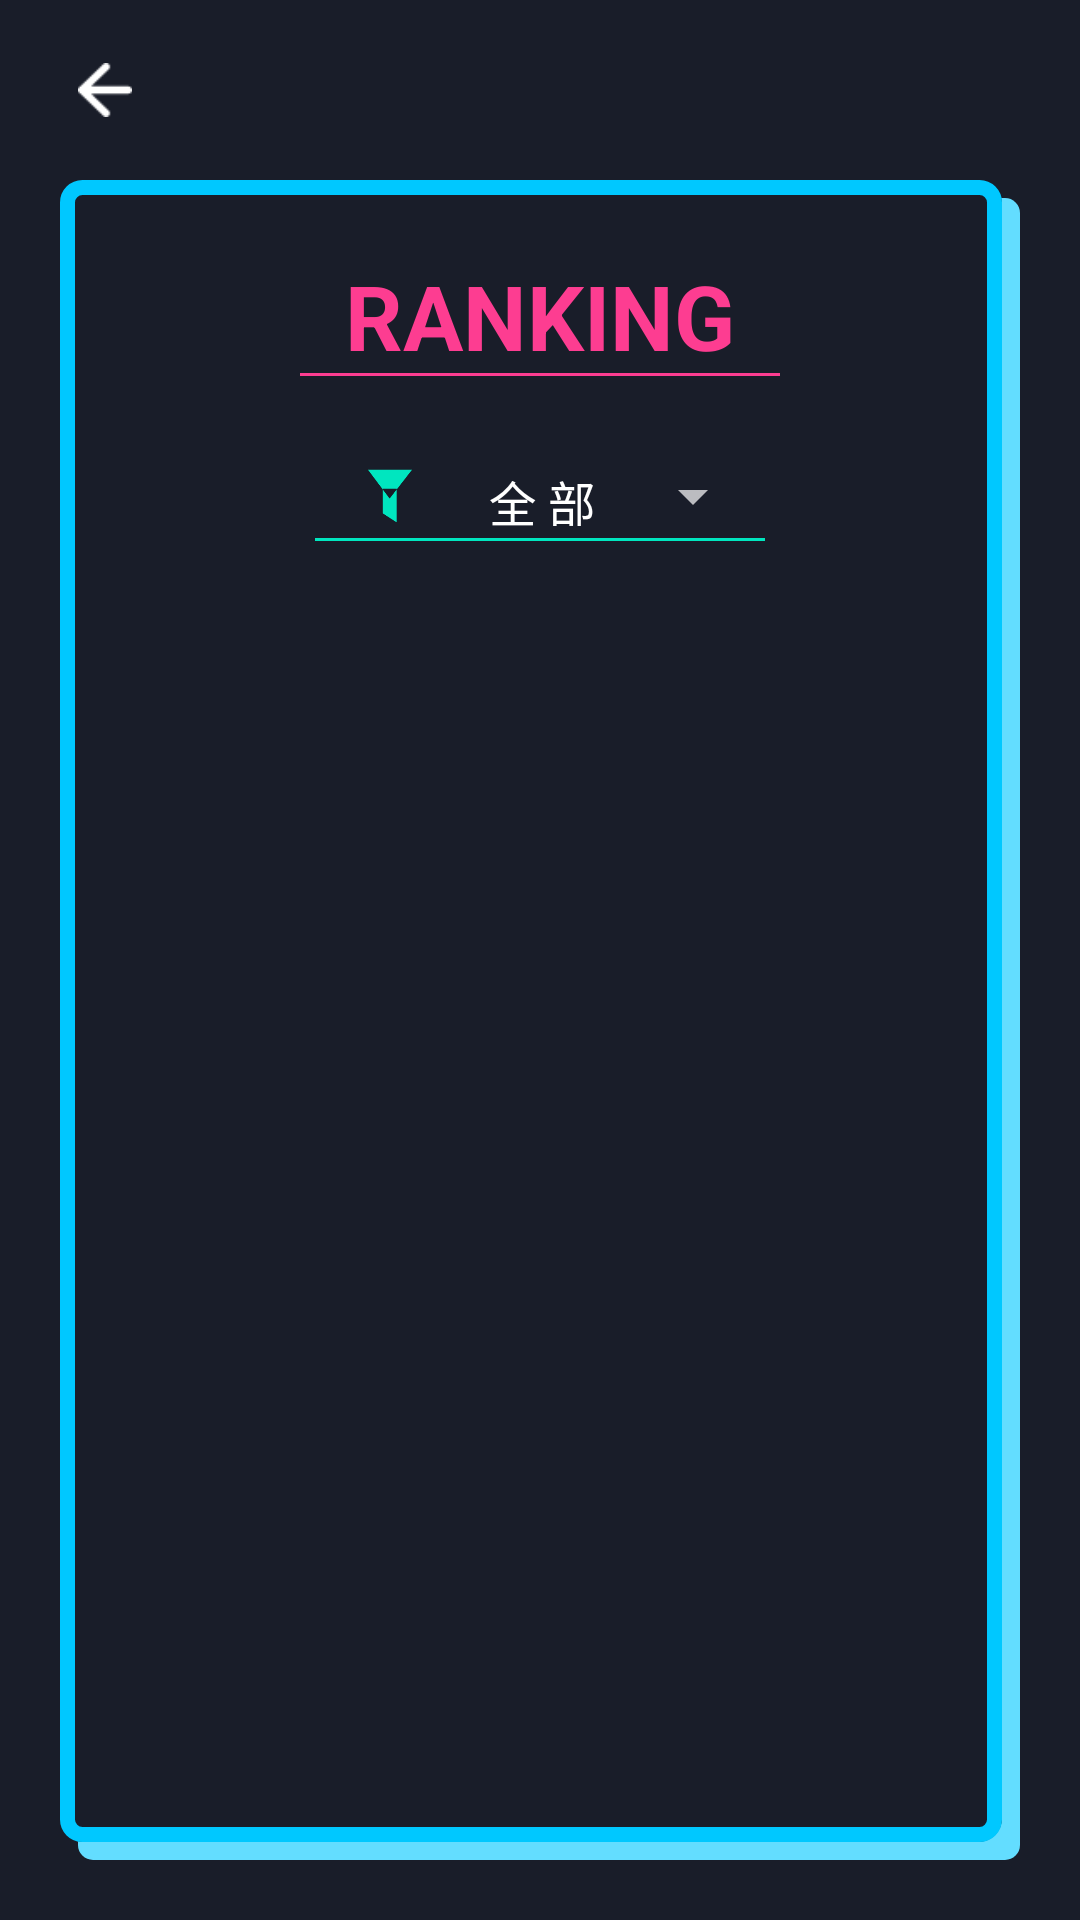

Icon click points for this 1080 x 1920 phone screenshot, format point (x, y):
back: point (105, 90)
funnel: point (390, 495)
